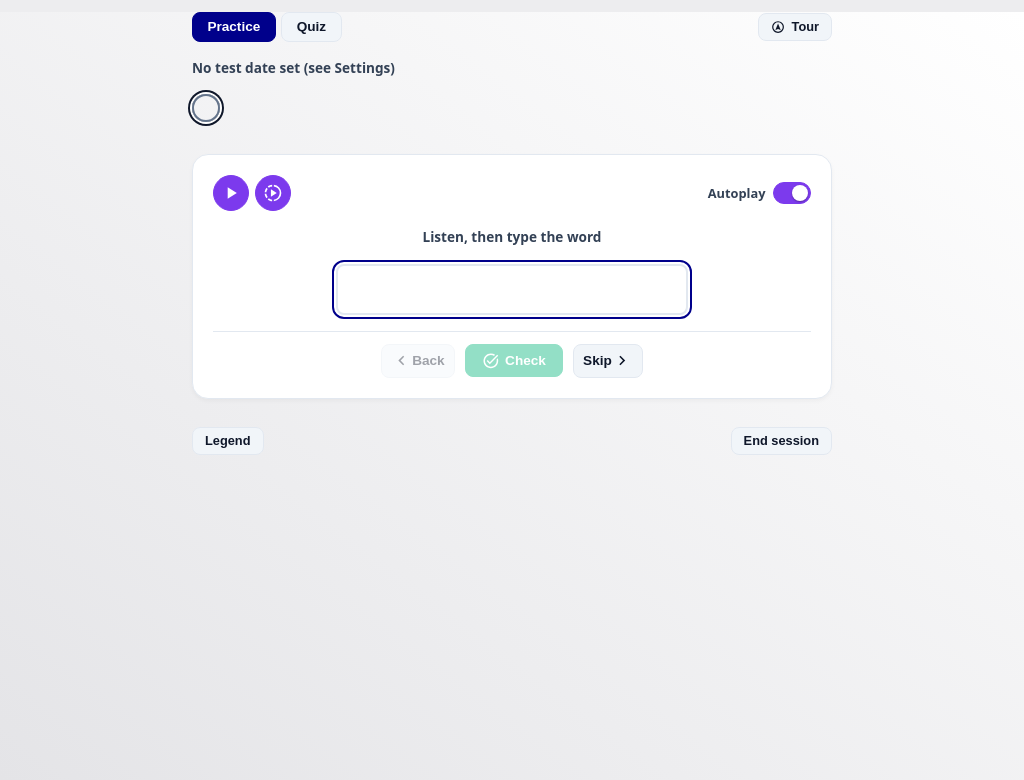
it: Level 5: quiz from audio › Check waits for something to be typed, then grades the whole word
Expected: the button with aria-label "Check your spelling" is disabled, [465, 344, 563, 377]
In the field named "Type the word you heard": x=512, y=289 [336, 264, 688, 315], type "kitten"
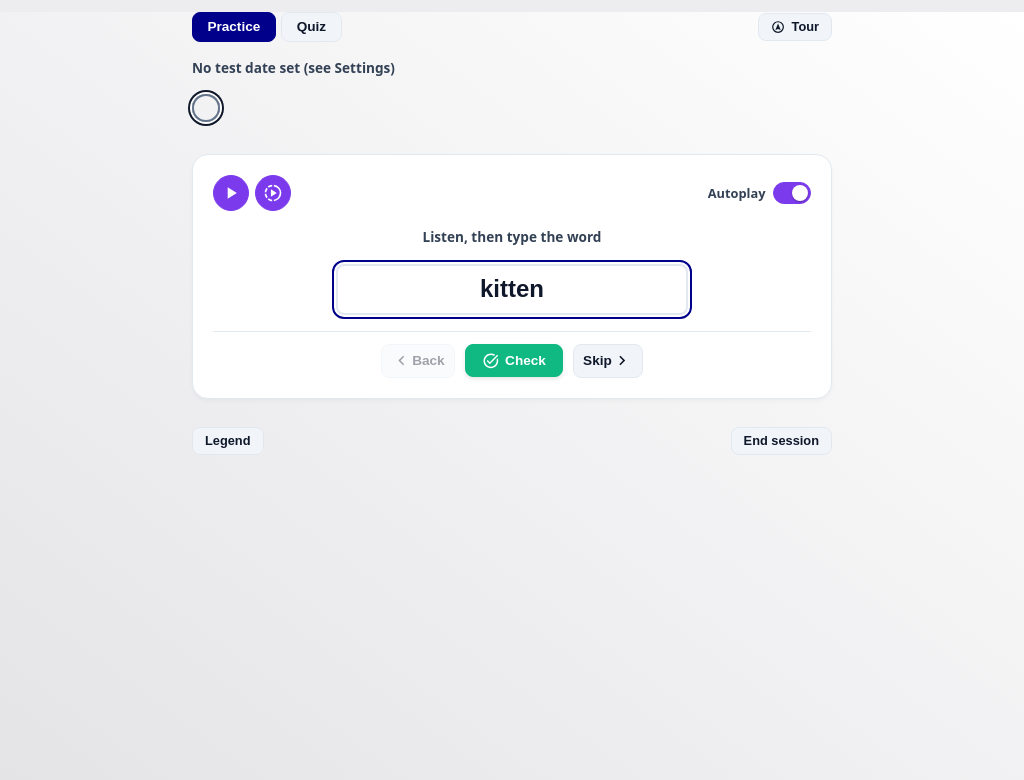
Now the button with aria-label "Check your spelling" is enabled
Click the button with aria-label "Check your spelling": x=514, y=361 [465, 344, 563, 377]
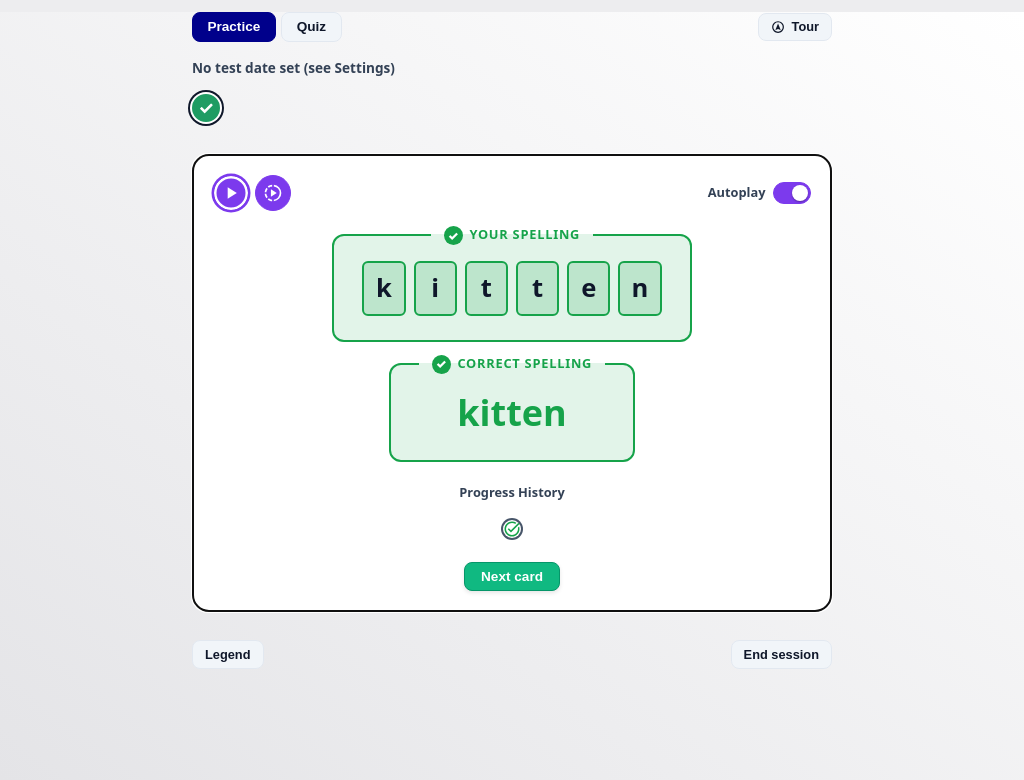
Now the text "Progress History" is shown, box [459, 483, 565, 502]
Now the list item named "scored 100%" is shown, box [192, 94, 220, 122]
